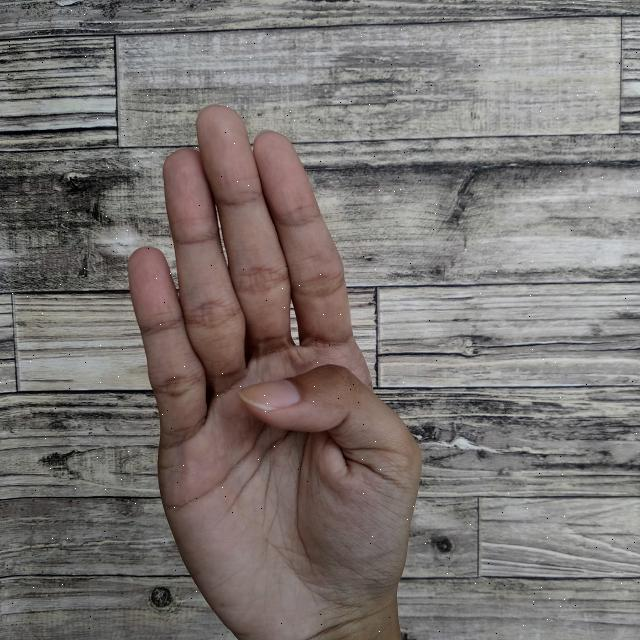B: (123, 105, 435, 640), (126, 102, 431, 640)
